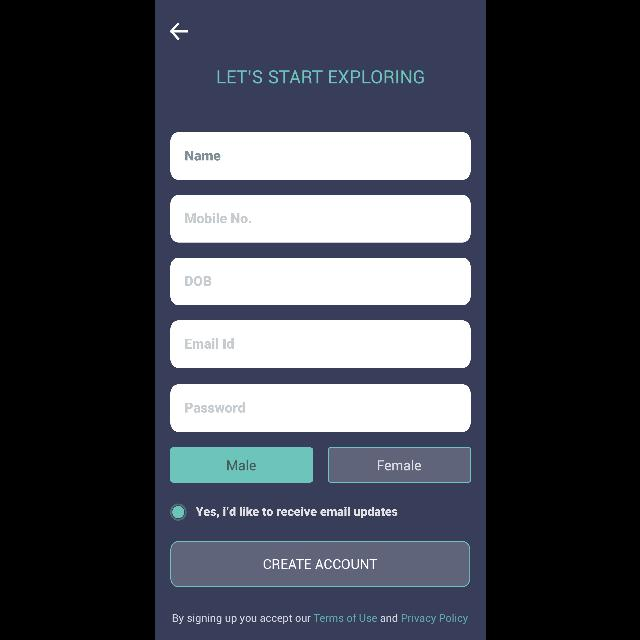checkbox: (169, 504, 185, 520)
icon: (169, 23, 187, 41)
input: (170, 132, 470, 180), (170, 258, 470, 306), (170, 320, 470, 368), (170, 384, 470, 432), (170, 195, 470, 242)
text: (172, 614, 468, 624), (216, 70, 424, 84), (195, 506, 397, 518), (185, 213, 251, 223), (184, 402, 244, 412), (184, 338, 233, 349), (184, 151, 220, 161), (184, 276, 210, 286)
textbutton: (170, 541, 470, 587), (170, 448, 312, 482), (328, 448, 470, 482)
